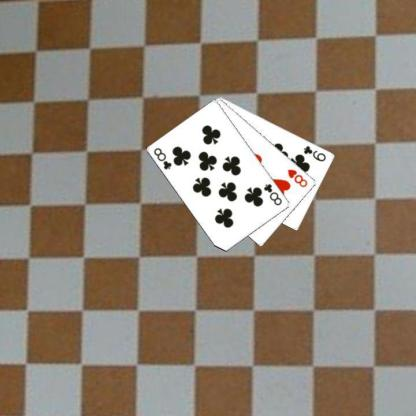8C: (261, 181, 283, 207), (152, 145, 174, 171)
8H: (286, 166, 309, 188)
9C: (301, 143, 328, 163)
